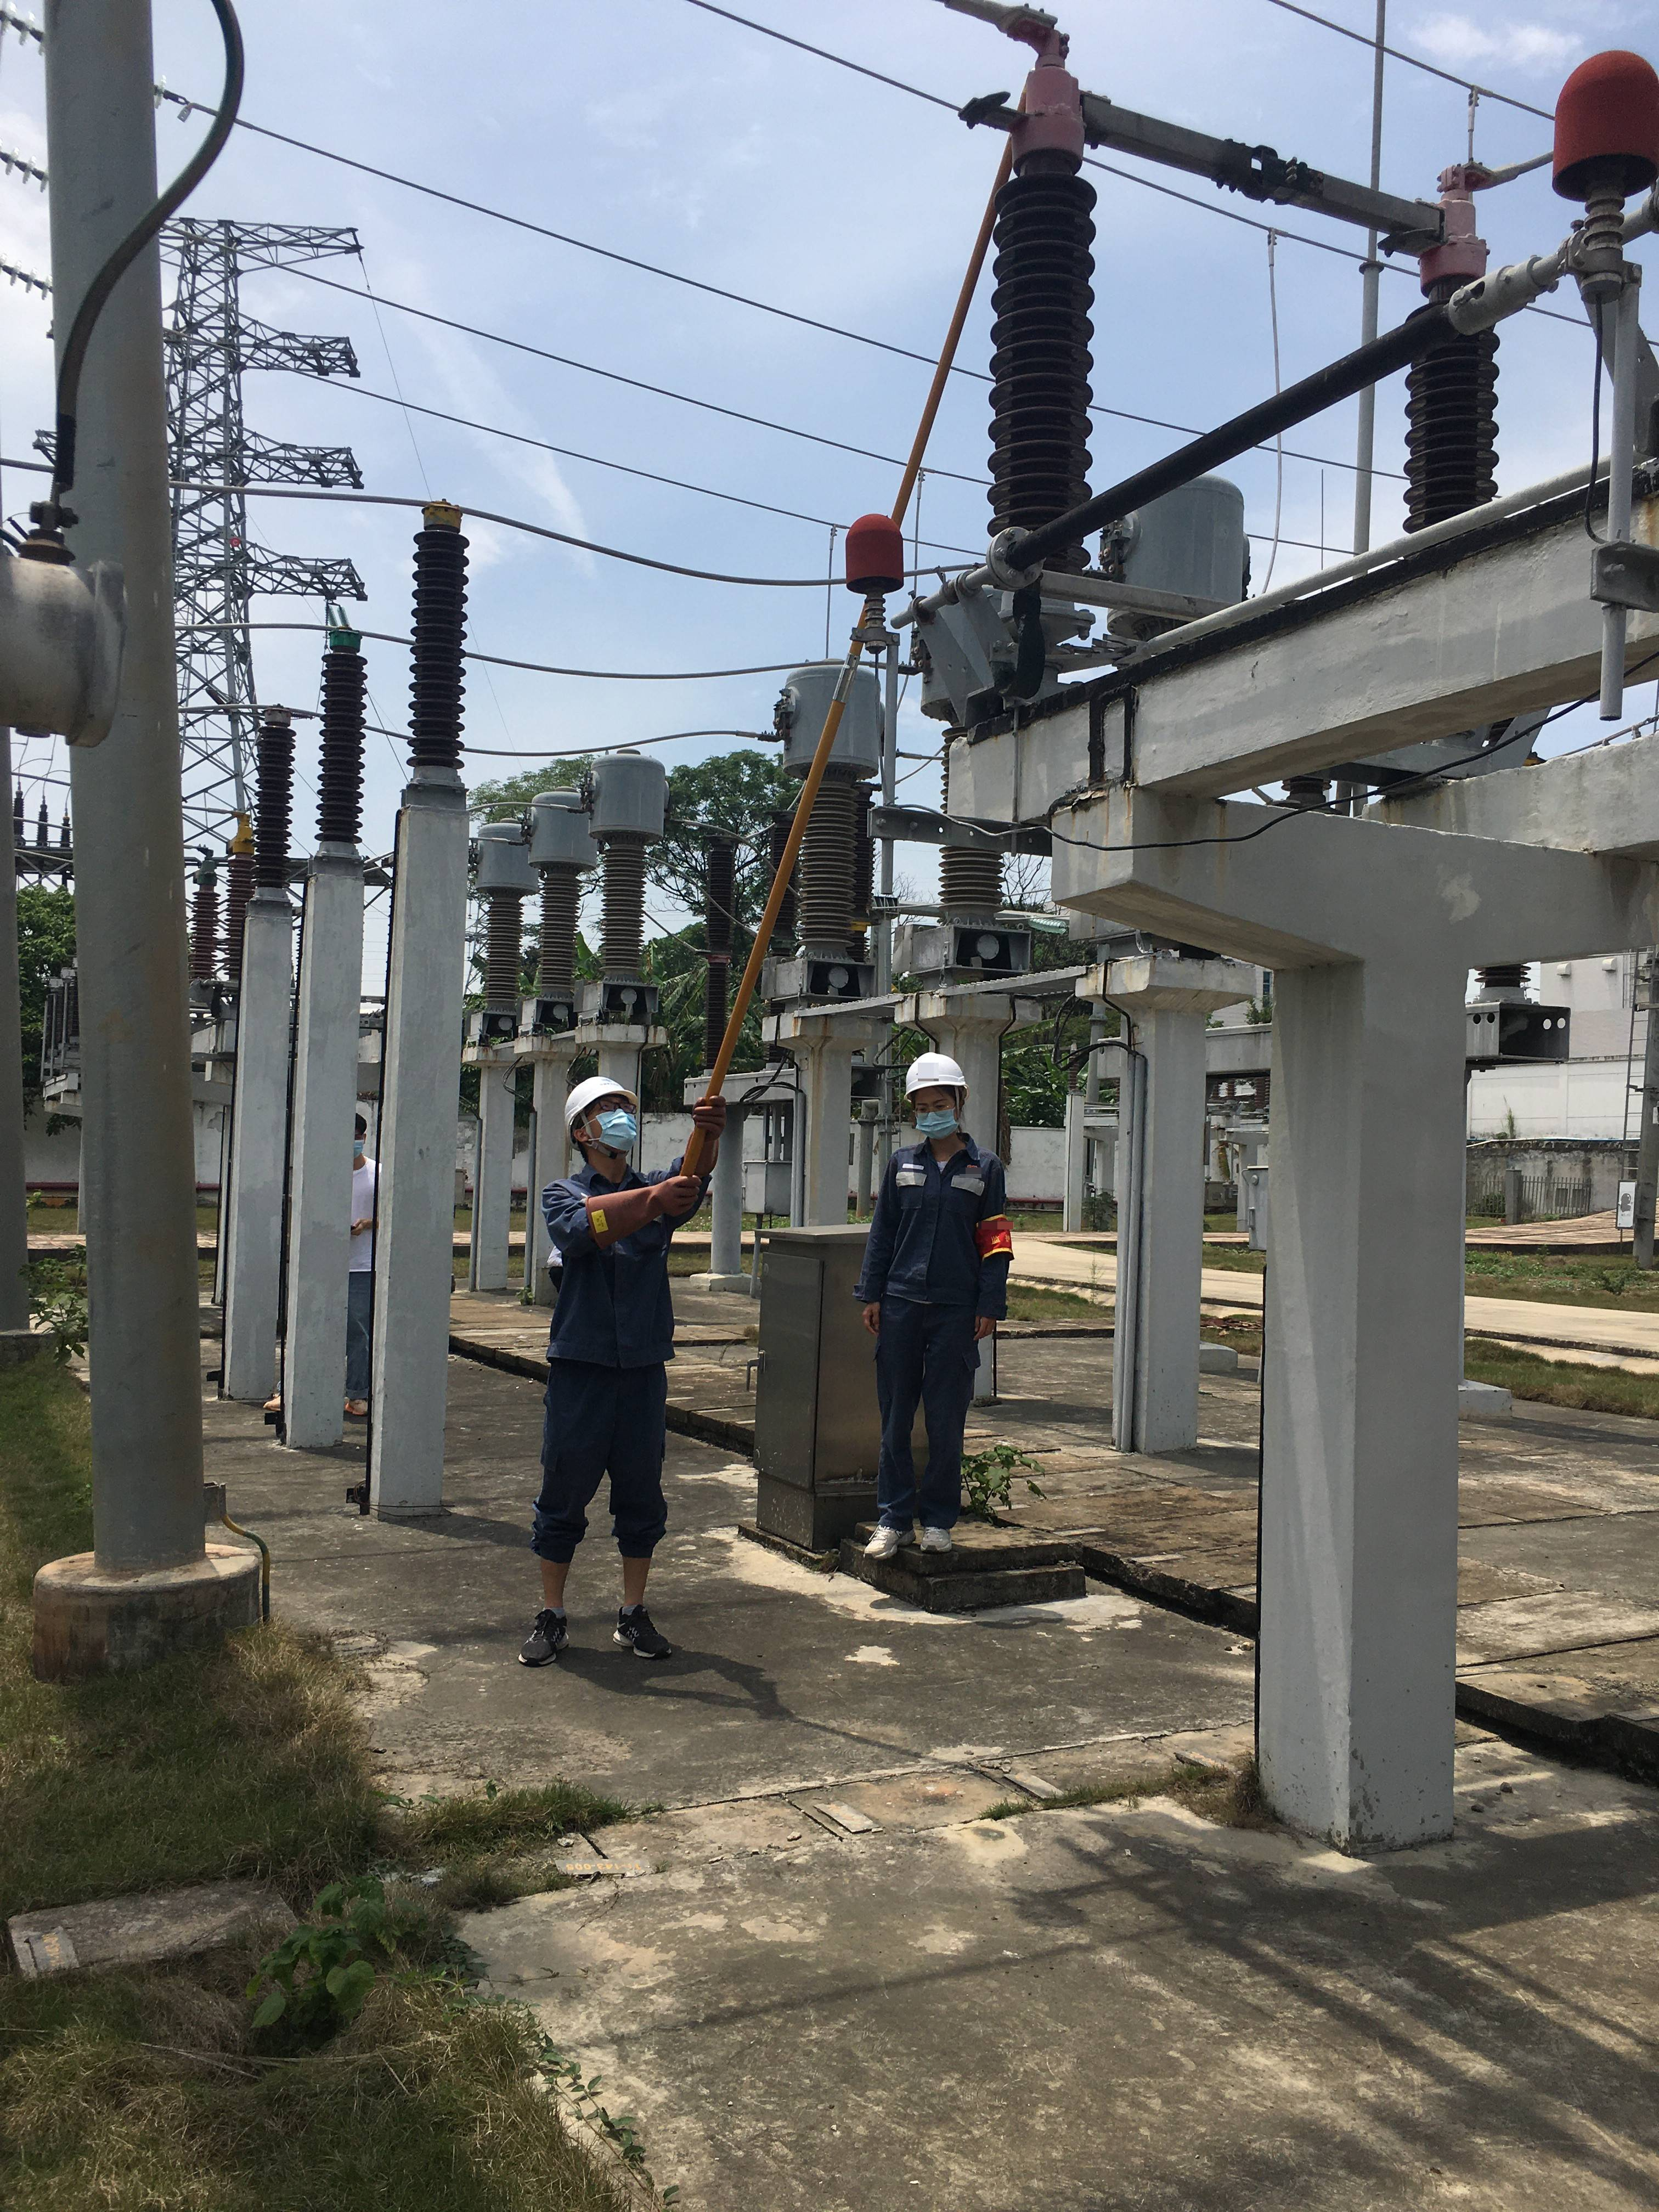downsuit: (535, 1372, 671, 1559), (870, 1317, 986, 1529)
upsuit: (856, 1136, 1016, 1310), (544, 1172, 680, 1366)
wrongbottom: (528, 1514, 587, 1622), (612, 1505, 667, 1618)
